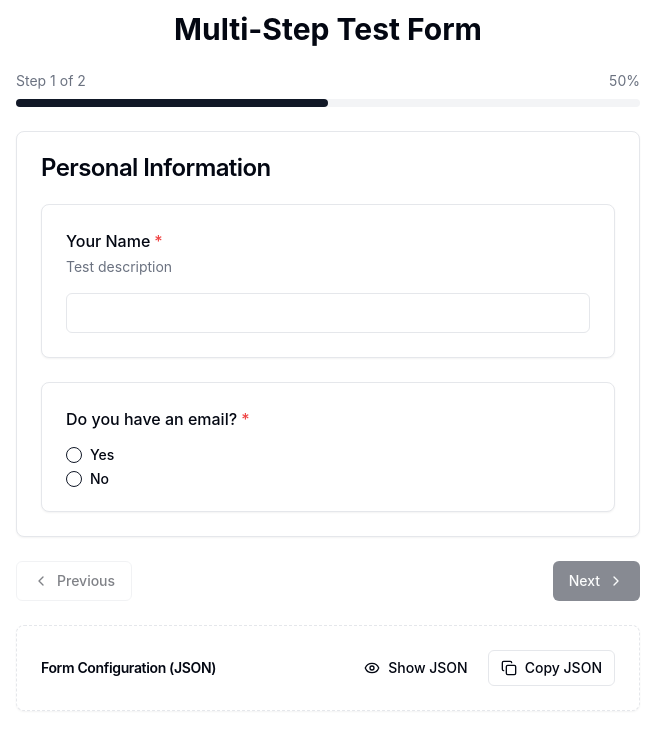
Scenario: FormPreview Integration Tests › Conditional Logic › should show conditional questions when condition is met
This screenshot has width=657, height=755.
Note: Fill required name field
In the field: (328, 313) [66,293,590,333], type "John Doe"
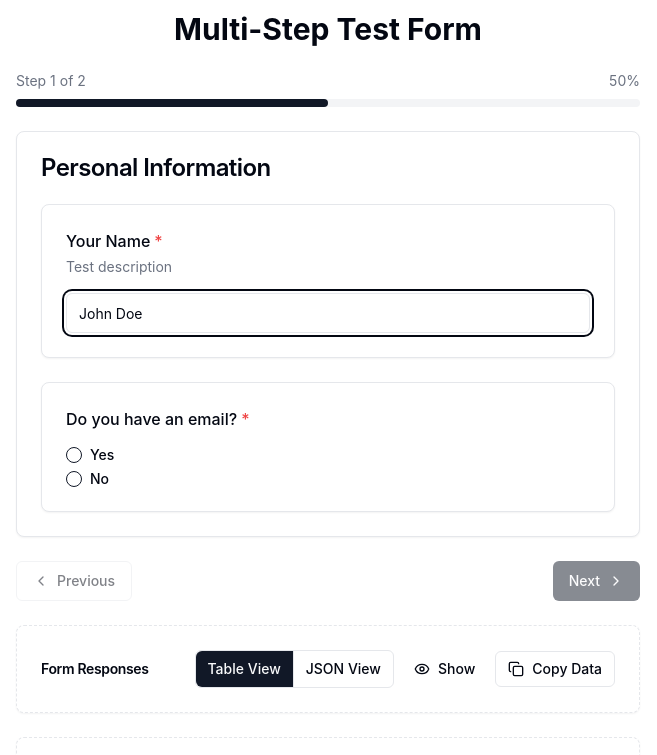
Note: Select "Yes" for has-email question
Click the radio button named "Yes" next to "Yes": (74, 455) [66,447,82,463]
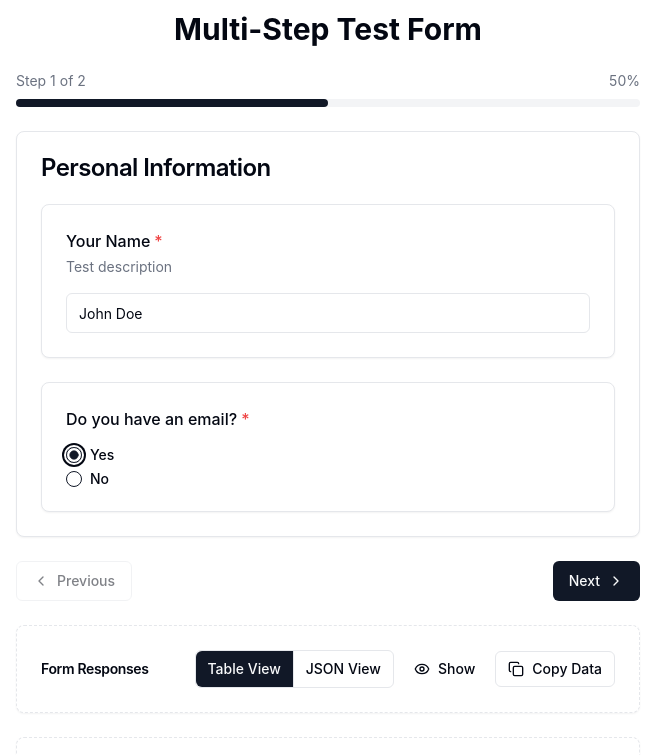
Note: Move to next step
Click the button "Next": (596, 581) [553,561,640,601]
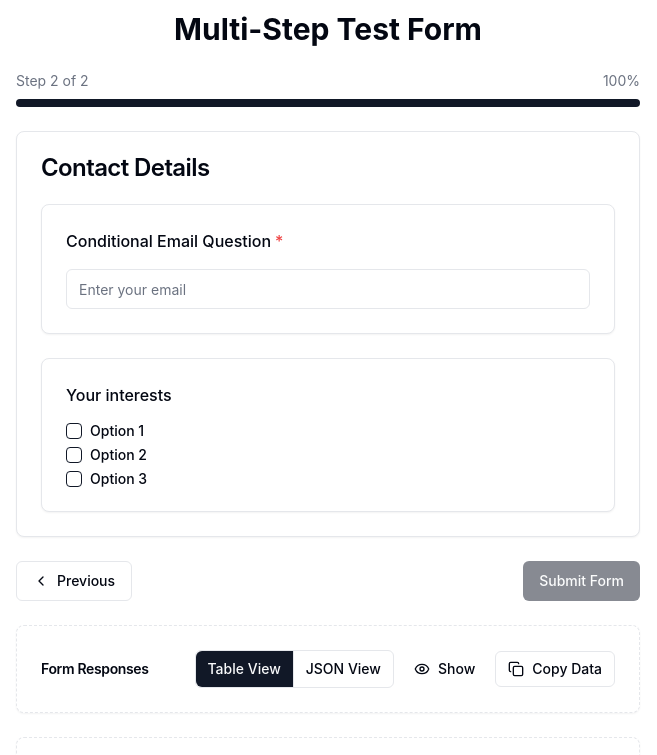
Result: the text "Conditional Email Question" is shown at [66,231,271,251]
